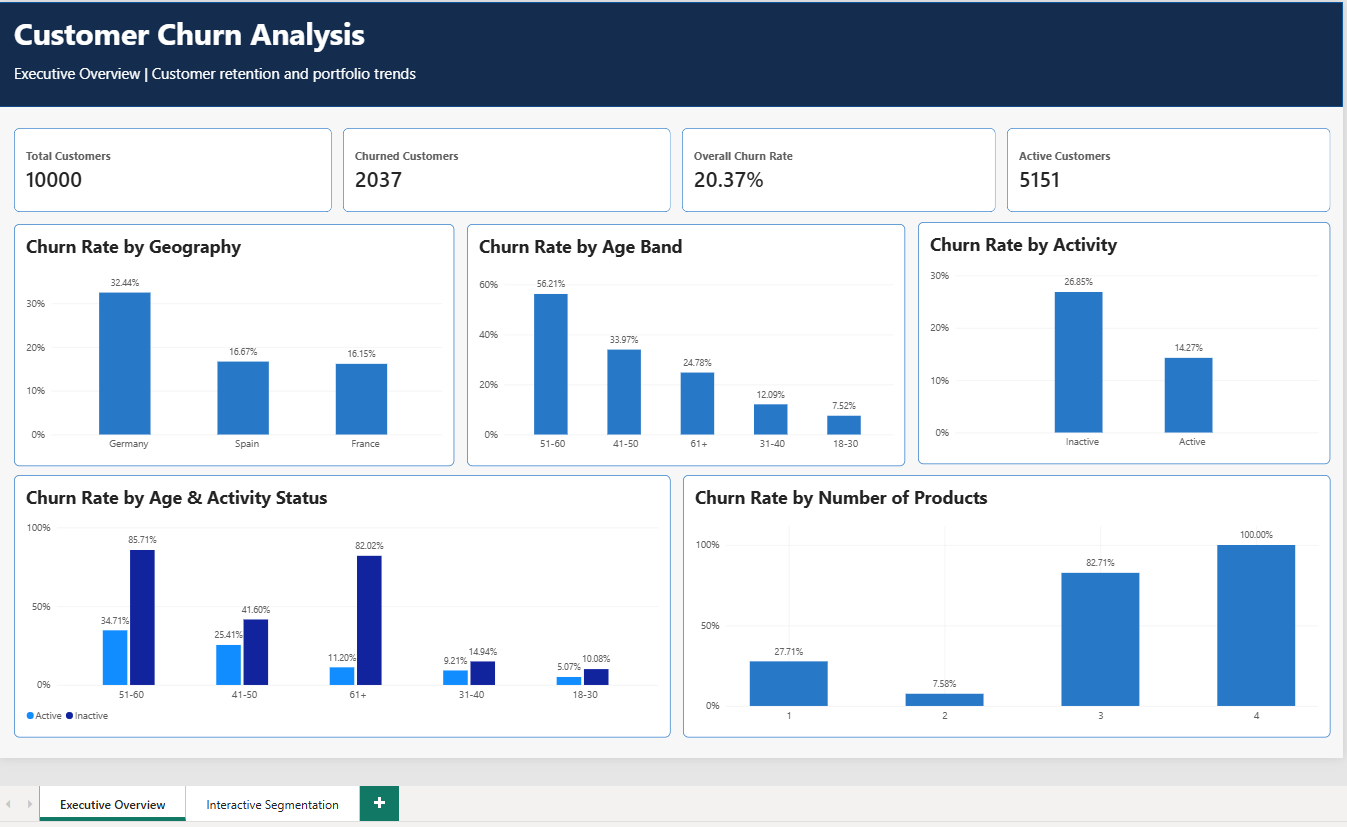

Layout of this report page (visuals, bound fields, positions):
{"tool":"powerbi","page":{"name":"Executive Overview","canvas":[1920,1080],"ordinal":0},"visuals":[{"type":"cardVisual","fields":{"Data":["customer_churn_clean.Total Customers"]},"box":[21.4,180,454.3,120],"z":0},{"type":"cardVisual","fields":{"Data":["customer_churn_clean.Churned Customers"]},"box":[491.4,180,468.6,120],"z":1000},{"type":"cardVisual","fields":{"Data":["customer_churn_clean.Churn Rate %"]},"box":[975.7,180,448.6,120],"z":2000},{"type":"cardVisual","fields":{"Data":["customer_churn_clean.Active Customers"]},"box":[1440,180,462.9,120],"z":3000},{"type":"clusteredColumnChart","title":"Churn Rate by Geography","fields":{"Category":["customer_churn_clean.Geography"],"Y":["customer_churn_clean.Churn Rate %"]},"box":[21.9,316.6,628.8,345.8],"z":4000},{"type":"clusteredColumnChart","title":"Churn Rate by Activity","fields":{"Y":["customer_churn_clean.Churn Rate %"],"Category":["customer_churn_clean.ActivityStatus"]},"box":[1313.1,314.9,589.4,345.8],"z":5000},{"type":"clusteredColumnChart","title":"Churn Rate by Age & Activity Status","fields":{"Category":["customer_churn_clean.AgeBand"],"Y":["customer_churn_clean.Churn Rate %"],"Series":["customer_churn_clean.ActivityStatus"]},"box":[21.9,675.5,938.1,375],"z":6000},{"type":"clusteredColumnChart","title":"Churn Rate by Age Band","fields":{"Y":["customer_churn_clean.Churn Rate %"],"Category":["customer_churn_clean.AgeBand"]},"box":[668.9,316.6,625.9,345.8],"z":7000},{"type":"clusteredColumnChart","title":"Churn Rate by Number of Products","fields":{"Y":["customer_churn_clean.Churn Rate %"],"Category":["customer_churn_clean.NumOfProducts"]},"box":[977.5,675.5,925,375],"z":8000},{"type":"shape","box":[0,0,1920,150.3],"z":9000},{"type":"textbox","box":[21.9,16,551.5,71.5],"z":10000},{"type":"textbox","box":[21.9,87.5,598.2,45.2],"z":11000},{"type":"textbox","box":[1393.3,1028,502.9,30],"z":12000}]}

Visuals, with their boxes on the page's 1920x1080 design canvas (x1, y1, x2, y2). These are canvas units, not pixel positions in the 1347x827 screenshot, which may show the page scaled, cropped or inside an application window:
cardVisual - customer_churn_clean.Total Customers: <bbox>21, 180, 476, 300</bbox>
cardVisual - customer_churn_clean.Churned Customers: <bbox>491, 180, 960, 300</bbox>
cardVisual - customer_churn_clean.Churn Rate %: <bbox>976, 180, 1424, 300</bbox>
cardVisual - customer_churn_clean.Active Customers: <bbox>1440, 180, 1903, 300</bbox>
"Churn Rate by Geography" clusteredColumnChart: <bbox>22, 317, 651, 662</bbox>
"Churn Rate by Activity" clusteredColumnChart: <bbox>1313, 315, 1902, 661</bbox>
"Churn Rate by Age & Activity Status" clusteredColumnChart: <bbox>22, 676, 960, 1050</bbox>
"Churn Rate by Age Band" clusteredColumnChart: <bbox>669, 317, 1295, 662</bbox>
"Churn Rate by Number of Products" clusteredColumnChart: <bbox>978, 676, 1902, 1050</bbox>
shape: <bbox>0, 0, 1920, 150</bbox>
textbox: <bbox>22, 16, 573, 88</bbox>
textbox: <bbox>22, 88, 620, 133</bbox>
textbox: <bbox>1393, 1028, 1896, 1058</bbox>
